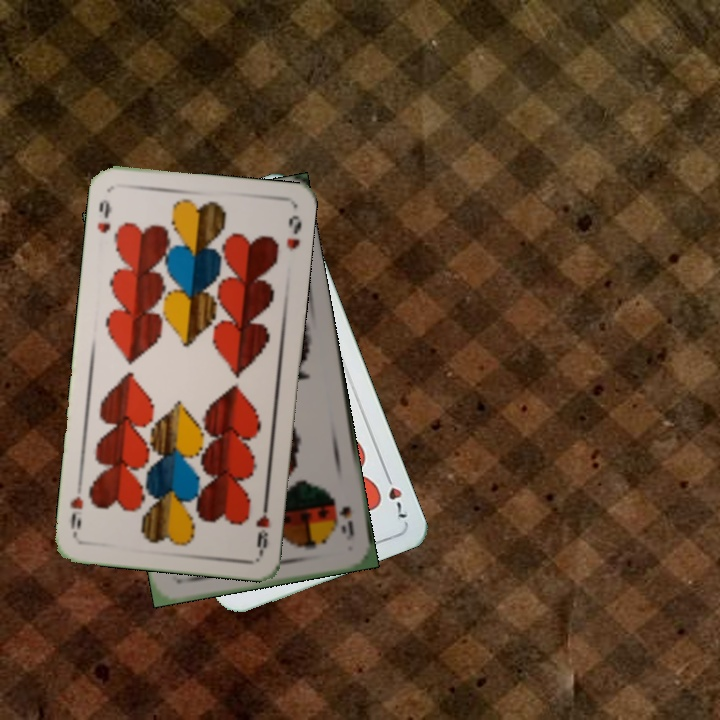H7: (380, 467, 410, 523)
H9: (251, 496, 272, 555), (93, 196, 113, 236)
SO: (330, 493, 357, 541)
